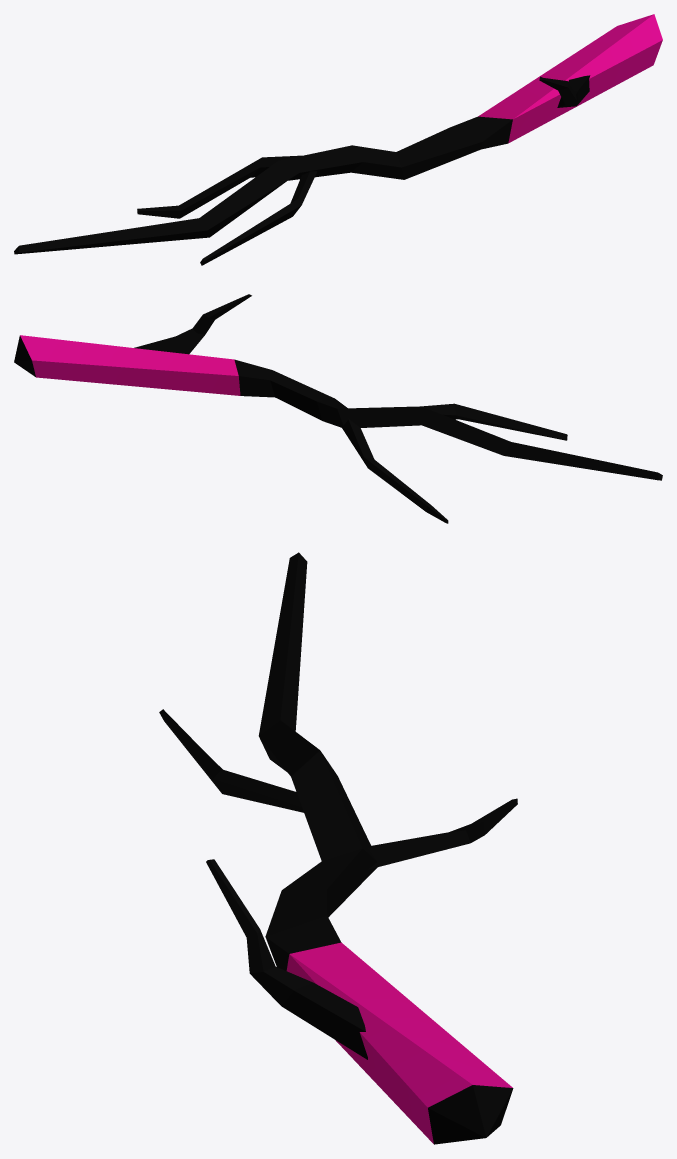
Rendered from SM_Env_Branch_02.glb.
3 views of the same model, one above another, from view 1: azimuth 30°, elevation 25°; view 2: azimuth 150°, elevation 25°; view 3: azimuth 270°, elevation 25° (orthographic). The views are drawn at different scales.
Parts seen in each view (by area): view 1: SM_Env_Branch_02; view 2: SM_Env_Branch_02; view 3: SM_Env_Branch_02.
Part boxes in pixels (x1,y1,x2,y2): SM_Env_Branch_02: (14,14,662,265); SM_Env_Branch_02: (14,294,662,523); SM_Env_Branch_02: (159,552,517,1144).
Bounding box in the file's own units: 290 × 50.88 × 74.94.
